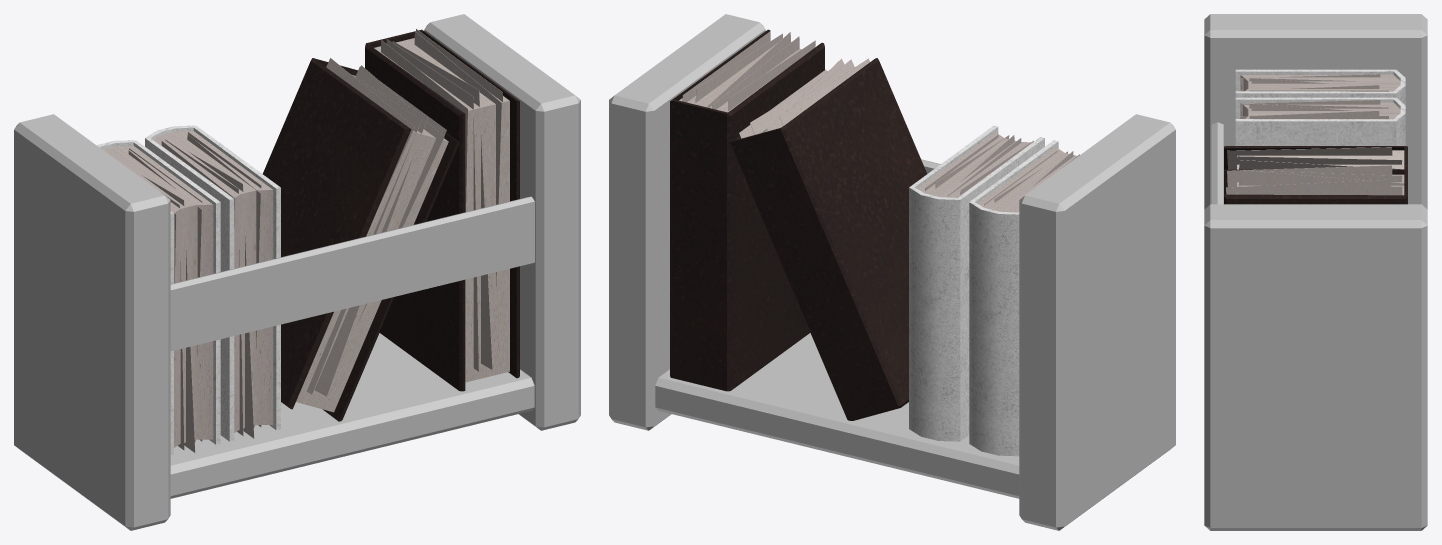
The model's file is BookshelfA.fbx.
The picture shows the model from 3 angles, left to right: view 1: azimuth 30°, elevation 25°; view 2: azimuth 150°, elevation 25°; view 3: azimuth 270°, elevation 25°; orthographic projection. The views are drawn at different scales.
Visible parts, largest first — view 1: 立方体, 立方体.003, 立方体.001, 立方体.002, 立方体.006, 立方体.008, 平面, 立方体.004, 立方体.005, 平面.001, 立方体.007, 平面.002 (+1 smaller); view 2: 立方体, 立方体.003, 立方体.001, 立方体.005, 立方体.007, 平面, 平面.001, 立方体.006, 立方体.008, 平面.002, 立方体.002; view 3: 立方体, 立方体.005, 平面, 平面.001, 立方体.007, 立方体.001, 立方体.008, 平面.002, 立方体.006, 平面.003, 立方体.004, 立方体.003.
Boxes of the visible parts, x1,y1,x2,y2 form: 立方体: (14,14,580,530); 立方体.003: (263,58,459,421); 立方体.001: (365,29,519,391); 立方体.002: (374,38,509,382); 立方体.006: (153,131,273,432); 立方体.008: (103,145,213,447); 平面: (381,29,502,371); 立方体.004: (296,75,448,412); 立方体.005: (145,125,280,441); 平面.001: (306,58,446,396); 立方体.007: (97,140,220,455); 平面.002: (161,132,261,438); 立方体: (609,14,1175,530); 立方体.003: (730,58,926,420); 立方体.001: (670,29,824,391); 立方体.005: (909,125,1044,441); 立方体.007: (969,140,1058,456); 平面: (682,31,815,110); 平面.001: (739,58,869,138); 立方体.006: (917,132,1030,197); 立方体.008: (977,147,1076,212); 平面.002: (925,134,1033,195); 立方体.002: (679,44,801,112); 立方体: (1204,14,1427,530); 立方体.005: (1235,97,1405,145); 平面: (1226,165,1404,195); 平面.001: (1227,147,1404,169); 立方体.007: (1235,69,1405,105); 立方体.001: (1224,169,1407,204); 立方体.008: (1240,74,1400,91); 平面.002: (1240,100,1388,118); 立方体.006: (1240,102,1400,119); 平面.003: (1240,74,1388,91); 立方体.004: (1237,150,1404,169); 立方体.003: (1224,146,1407,169).
Bounding box in the file's own units: 195 × 139 × 87.
